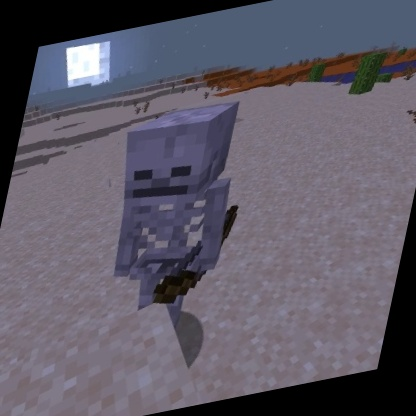skeleton: (80, 89, 267, 337)
